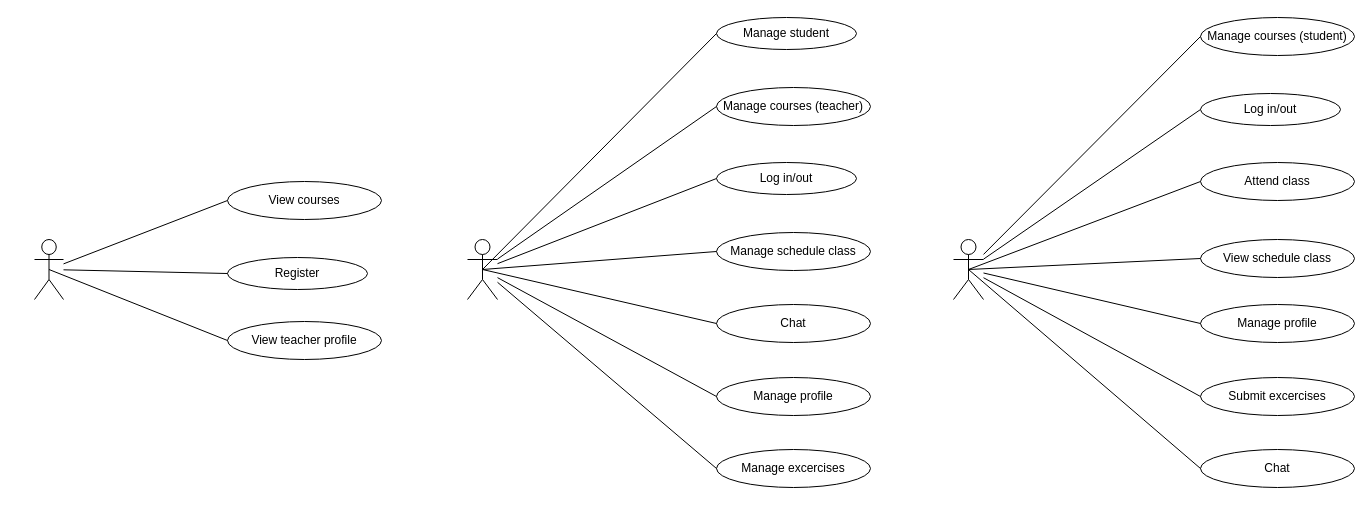
Image size: 1372x505. Some labels were removed from this diagram. The shapes that lost their labels are listed below. From the top down, each one's box as (x1, y1, x2, y2) in pixels, then its label:
(34, 238, 64, 300): Anonymous
(466, 238, 498, 300): Teacher
(952, 238, 984, 300): Student
